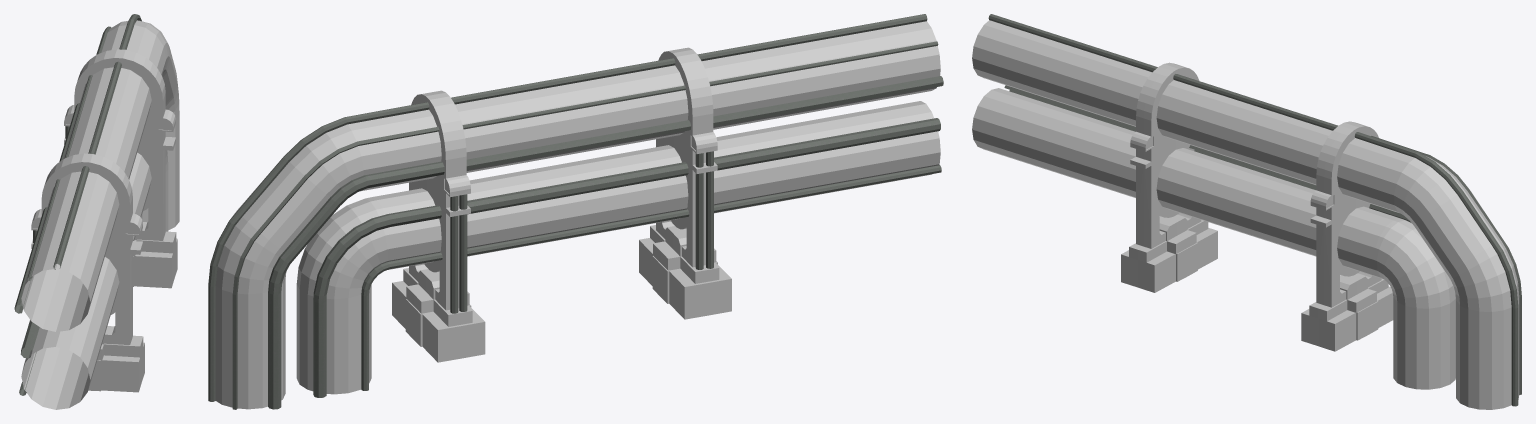
File: PipeWall_C_Distant.fbx
3 views of the same model, side by side, from view 1: azimuth 30°, elevation 25°; view 2: azimuth 150°, elevation 25°; view 3: azimuth 270°, elevation 25° (orthographic). The views are drawn at different scales.
Parts seen in each view (by area): view 1: SM_ENV_AMVLLG02_PipeWall_C_Distant.mo; view 2: SM_ENV_AMVLLG02_PipeWall_C_Distant.mo; view 3: SM_ENV_AMVLLG02_PipeWall_C_Distant.mo.
Part boxes in pixels (<box>): SM_ENV_AMVLLG02_PipeWall_C_Distant.mo: <box>14,14,179,409</box>; SM_ENV_AMVLLG02_PipeWall_C_Distant.mo: <box>208,14,943,409</box>; SM_ENV_AMVLLG02_PipeWall_C_Distant.mo: <box>972,14,1521,409</box>.
Bounding box in the file's own units: 9728 × 5459 × 12078.
